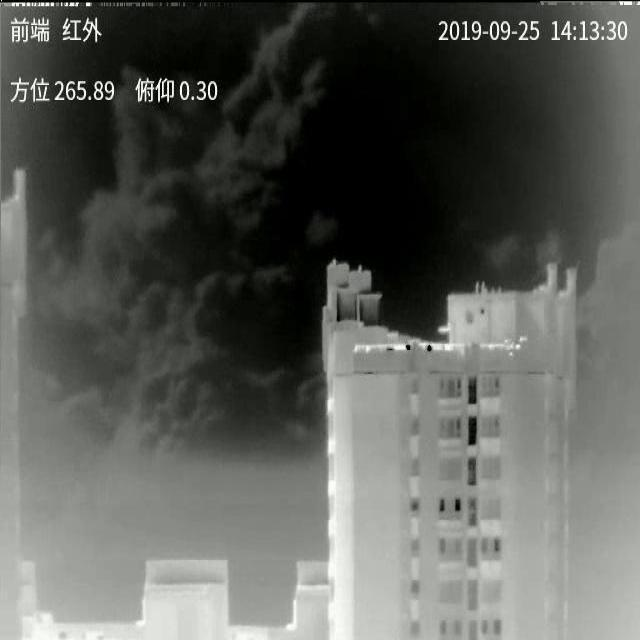drone: (504, 336, 529, 359)
